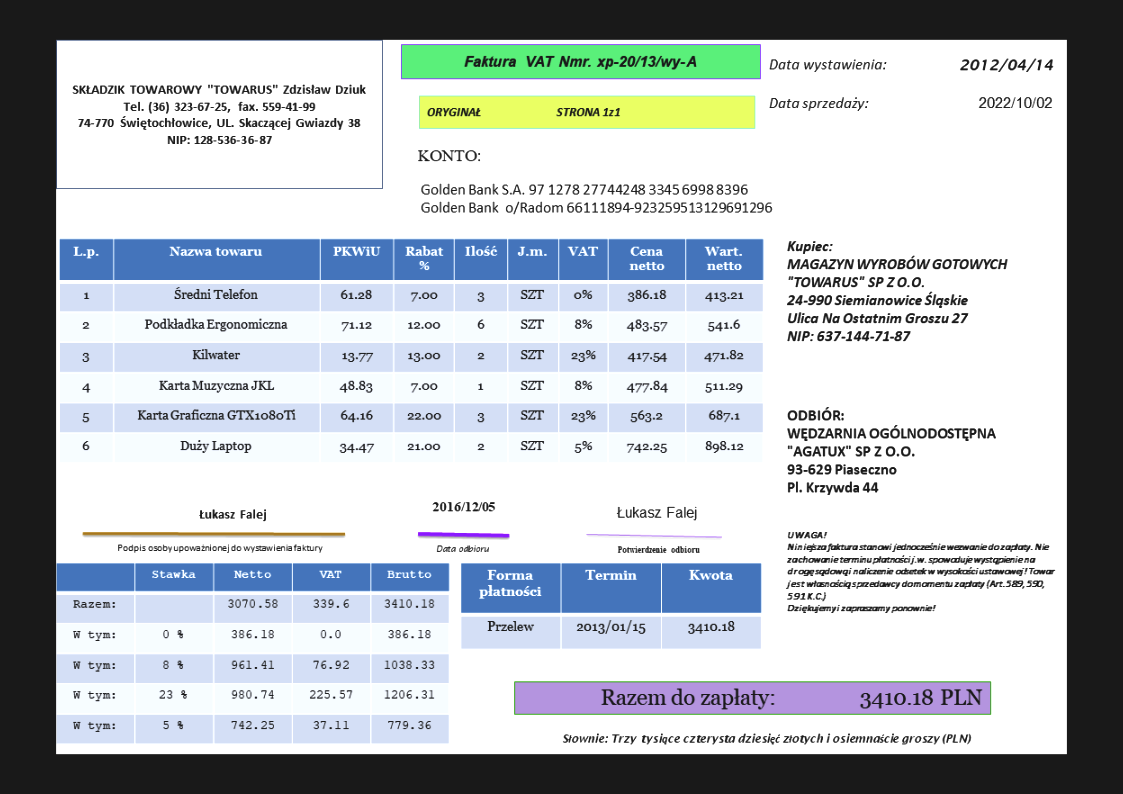Table: (58, 238, 764, 464), (57, 564, 449, 744), (459, 561, 764, 650)
TextBox: (785, 238, 1010, 343), (785, 529, 1057, 614), (71, 81, 369, 148), (786, 405, 997, 496), (419, 181, 776, 215), (600, 687, 984, 709), (561, 731, 975, 745), (460, 51, 699, 72), (115, 541, 324, 555), (424, 105, 622, 119), (768, 55, 889, 73), (768, 95, 872, 113), (957, 55, 1055, 72), (614, 504, 698, 523), (977, 95, 1055, 111), (430, 498, 496, 516), (197, 507, 269, 523), (417, 147, 482, 163), (616, 544, 701, 554), (434, 542, 491, 555)
